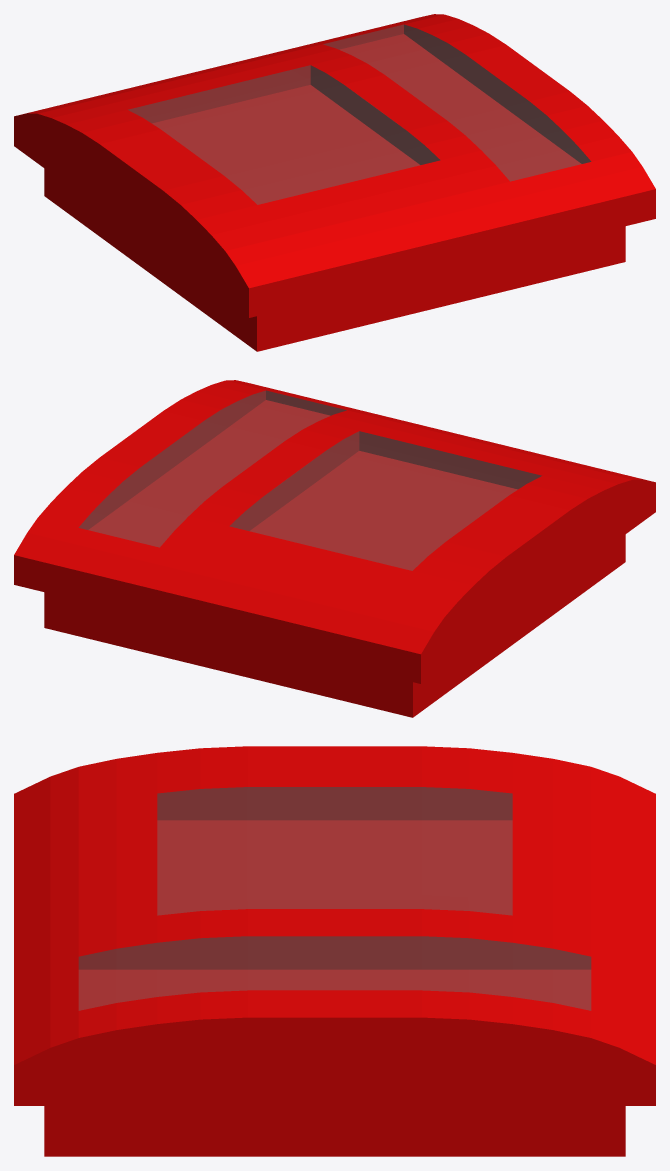
Rendered from brandlarmsknapp.fbx.
The picture shows the model from 3 angles, top to bottom: view 1: azimuth 30°, elevation 25°; view 2: azimuth 150°, elevation 25°; view 3: azimuth 270°, elevation 25°; orthographic projection. The views are drawn at different scales.
Parts seen in each view (by area): view 1: pCube1; view 2: pCube1; view 3: pCube1.
Part boxes in pixels (x1=…): pCube1: x1=14, y1=14, x2=655, y2=351; pCube1: x1=14, y1=380, x2=655, y2=717; pCube1: x1=14, y1=746, x2=655, y2=1156.
Bounding box in the file's own units: 14.59 × 3.82 × 14.59.
